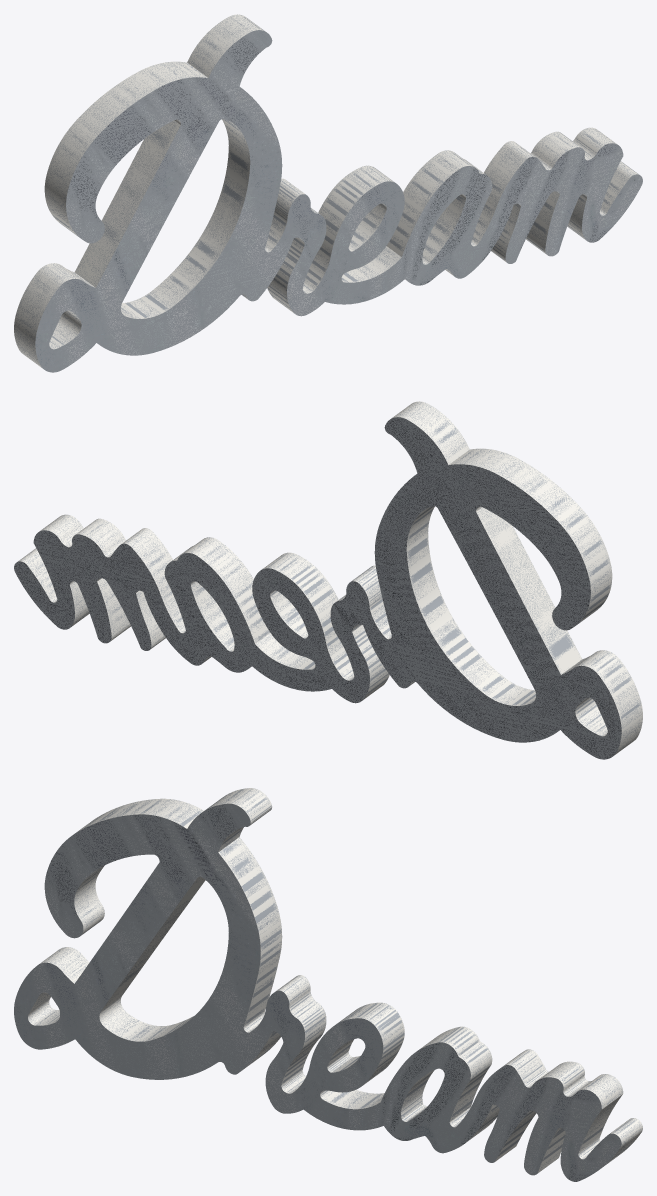
The model's file is prop_figure_dream.fbx.
The picture shows the model from 3 angles, top to bottom: view 1: azimuth 30°, elevation 25°; view 2: azimuth 150°, elevation 25°; view 3: azimuth 330°, elevation 25°; orthographic projection.
Parts seen in each view (by area): view 1: Groupe_28_1; view 2: Groupe_28_1; view 3: Groupe_28_1.
Part boxes in pixels (box(x1,y1,x2,y2)): Groupe_28_1: box(14, 14, 642, 372); Groupe_28_1: box(14, 401, 642, 759); Groupe_28_1: box(14, 788, 642, 1181).
Bounding box in the file's own units: 0.3281 × 0.1539 × 0.02.
